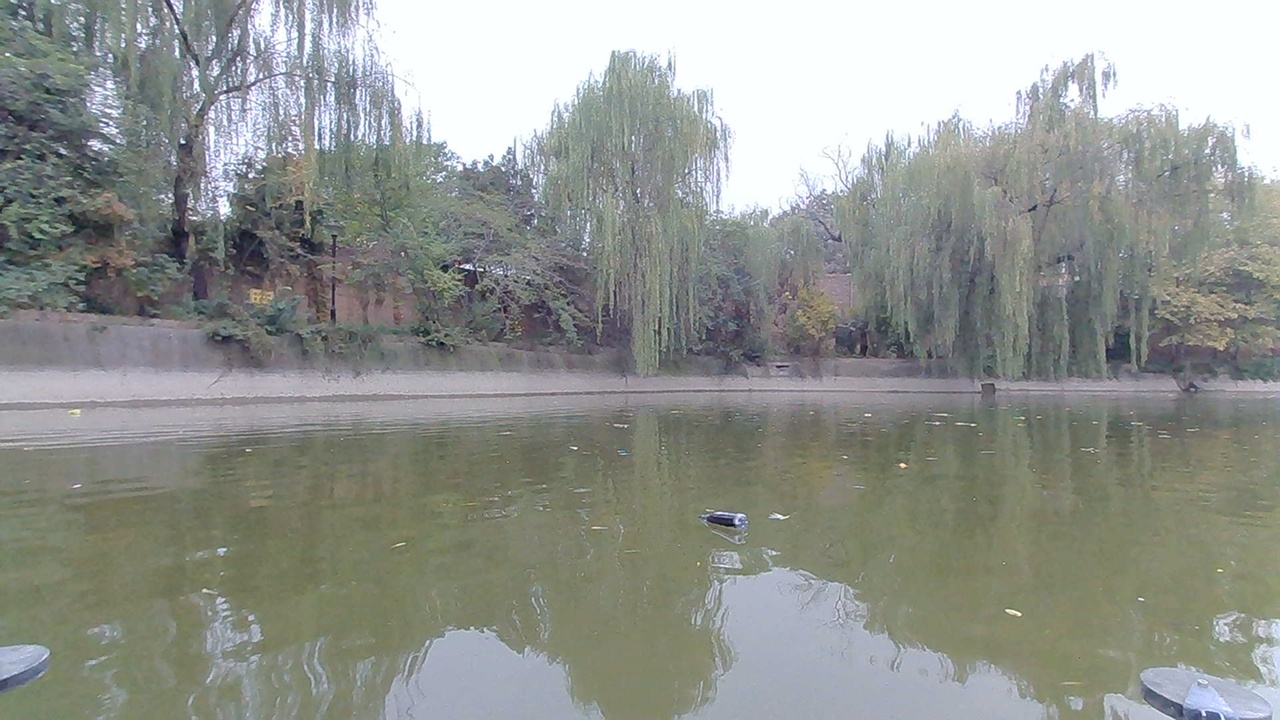bottle: (702, 507, 756, 541)
